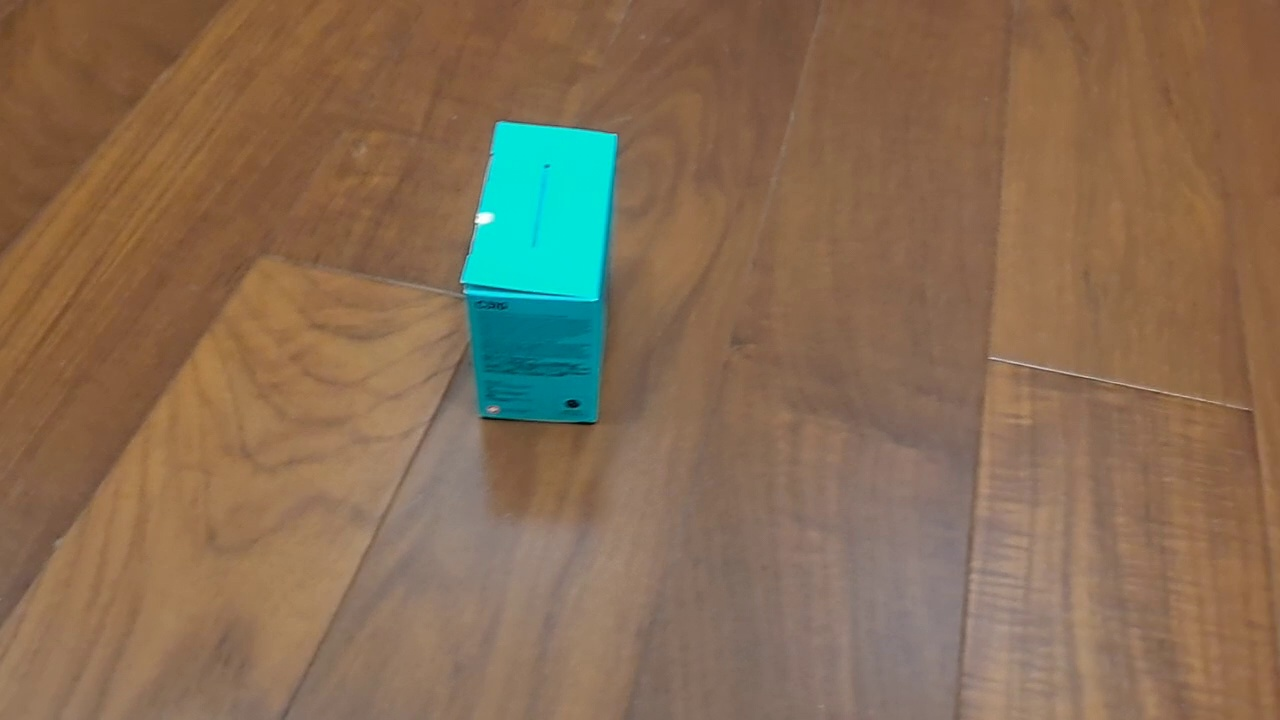webcam: (457, 119, 620, 427)
